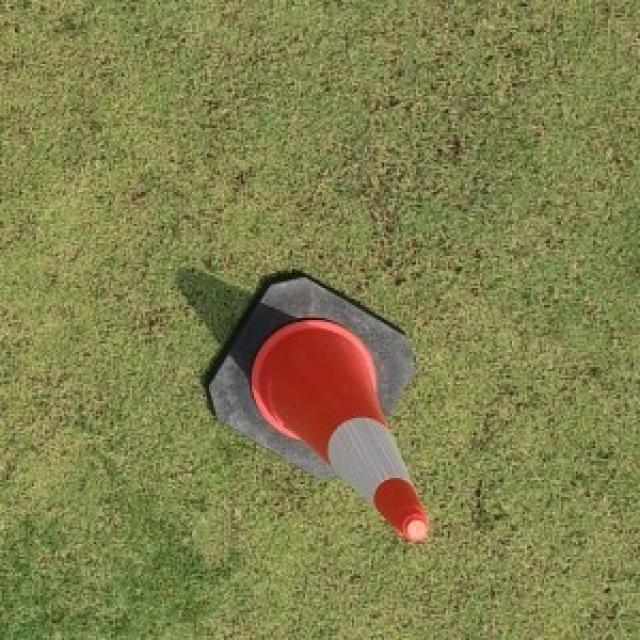cone: (205, 273, 429, 540)
